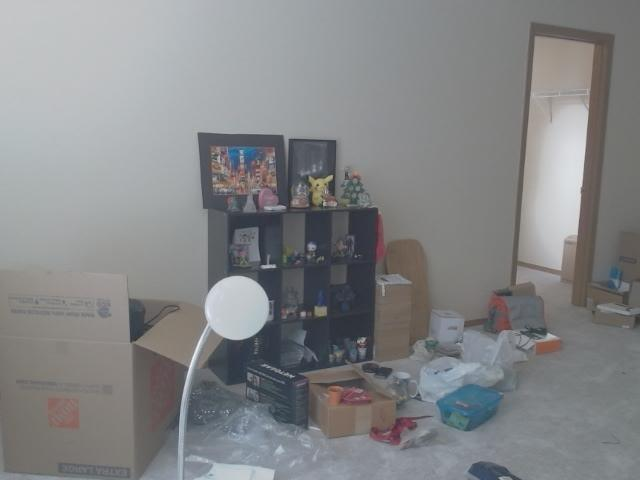Fan: (204, 274, 268, 339)
